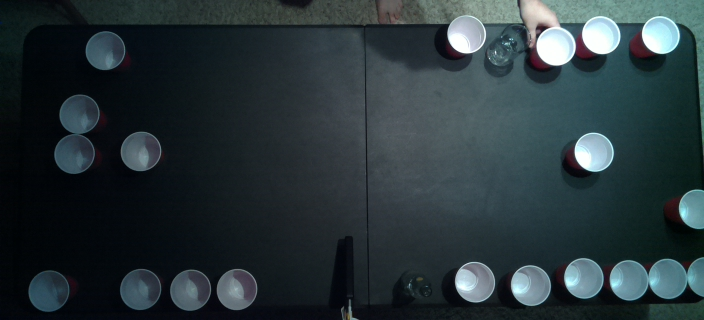active bp cup: (52, 134, 96, 176), (57, 93, 101, 134), (119, 131, 161, 172), (570, 134, 613, 174), (676, 188, 703, 230)
inactive bp cup: (454, 260, 496, 303), (562, 257, 605, 299), (26, 269, 69, 311), (169, 269, 211, 311), (119, 268, 161, 310), (216, 268, 257, 311), (534, 26, 577, 67), (510, 264, 551, 306), (608, 258, 648, 301), (639, 15, 680, 56), (84, 31, 126, 69), (446, 15, 486, 54), (581, 16, 622, 54), (648, 258, 686, 298), (687, 256, 703, 297)
